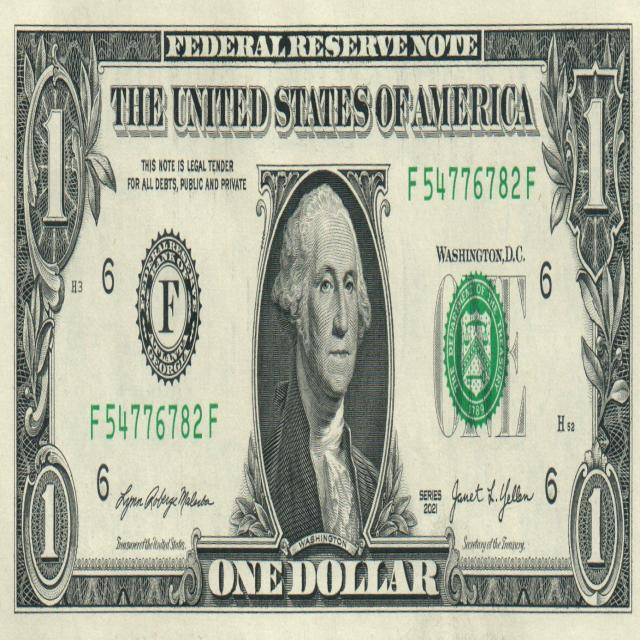SerialNumber: (408, 167, 535, 201), (91, 404, 206, 440)
